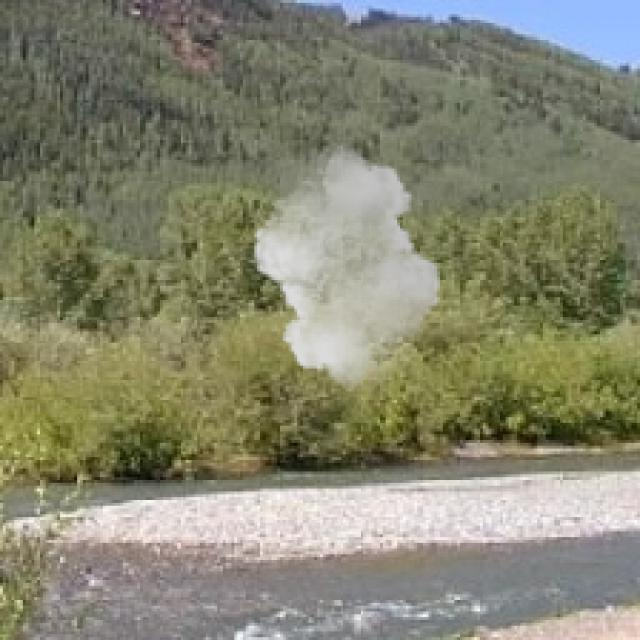smoke: (246, 143, 448, 391)
